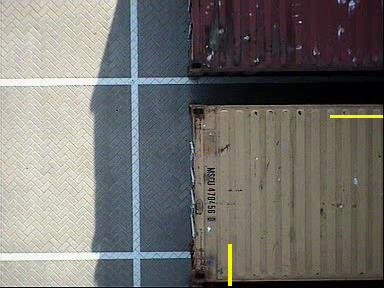groundmarker_2: (114, 160, 170, 191), (115, 31, 171, 61)
